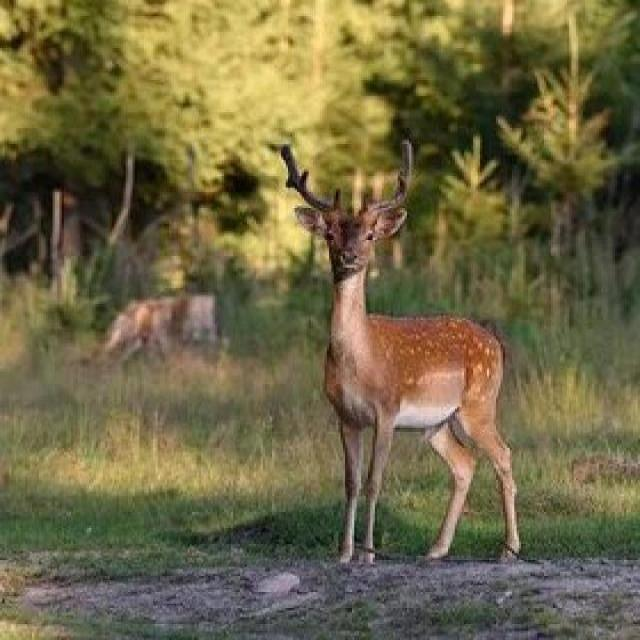deer: (198, 119, 562, 568)
